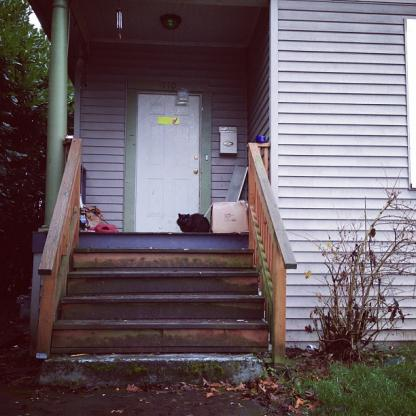Target: (173, 211, 213, 237)
